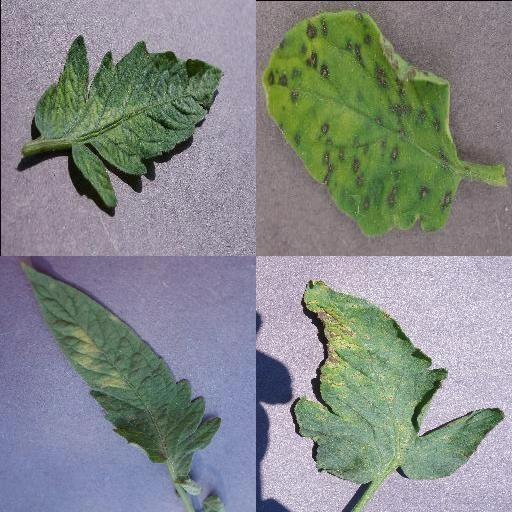Leaf Mold: (21, 260, 222, 478)
Mosaic Virus: (32, 34, 224, 208)
Septoria: (261, 10, 461, 236), (293, 281, 503, 483)
